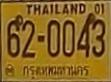0: (46, 19, 59, 56), (62, 19, 74, 56)
2: (21, 20, 34, 58)
3: (92, 18, 104, 56)
4: (76, 16, 90, 57)
6: (6, 19, 20, 56)
BKK: (22, 63, 90, 80)
